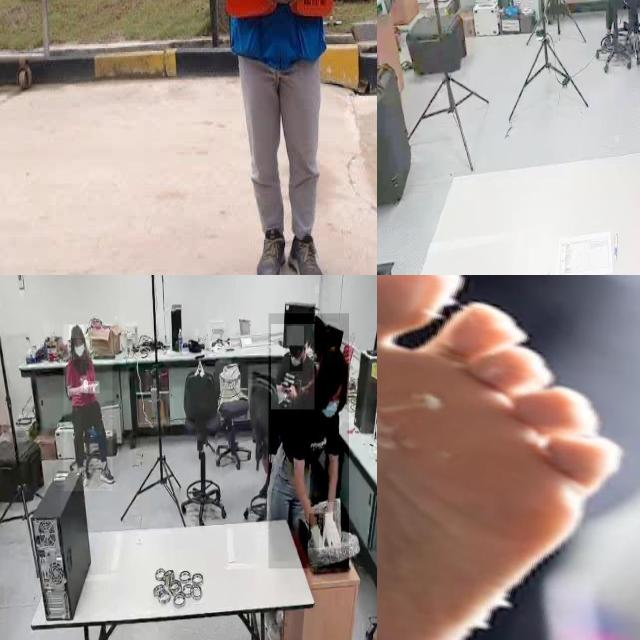Barefoots: (377, 275, 640, 640)
boots: (286, 231, 323, 275), (254, 229, 286, 275)
face_mask: (320, 388, 339, 423), (290, 346, 302, 371), (74, 339, 86, 360)
hand_glove: (319, 502, 341, 555), (309, 513, 323, 549)
hand_noglove: (281, 378, 297, 400), (84, 381, 100, 394), (80, 376, 88, 394)
head_nohelmet: (320, 344, 348, 384), (286, 326, 304, 346), (69, 325, 85, 339)
person: (165, 0, 377, 275), (268, 314, 349, 570), (63, 324, 113, 492), (271, 324, 315, 409), (608, 0, 640, 58)
shoes: (97, 457, 115, 486)
vest: (226, 0, 333, 61)
